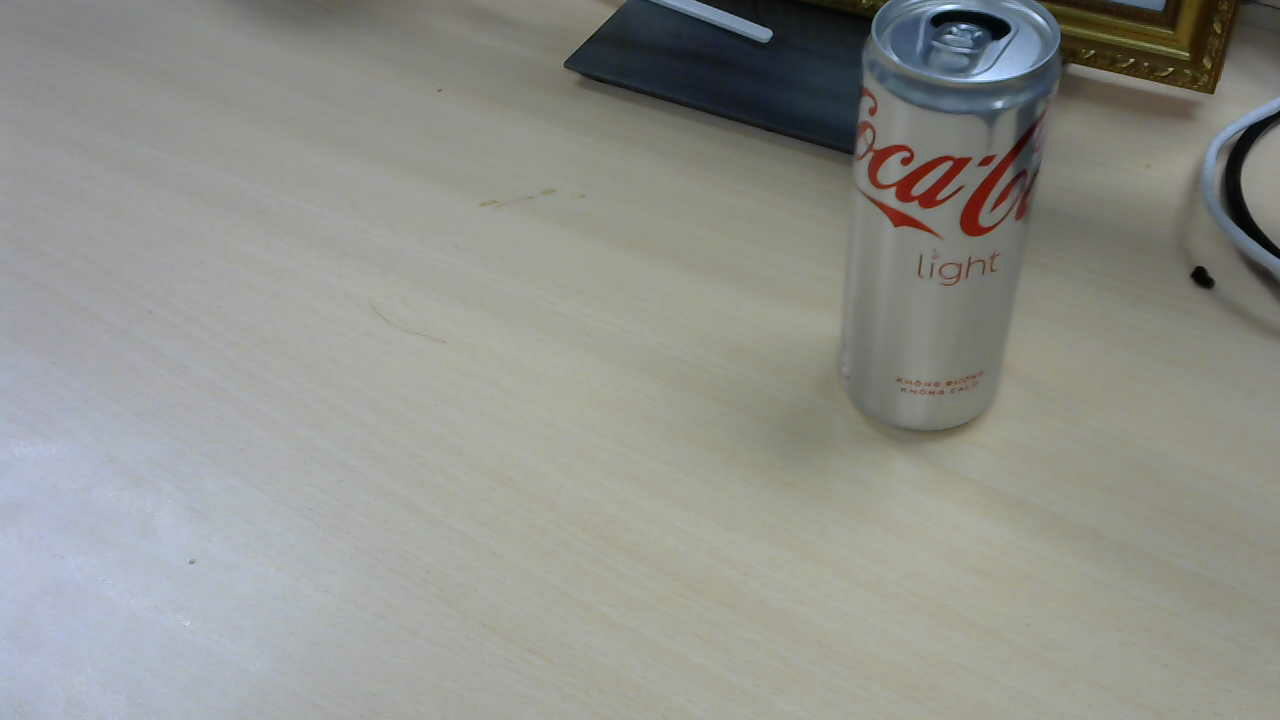Coca_Cola: (839, 2, 1066, 440)
